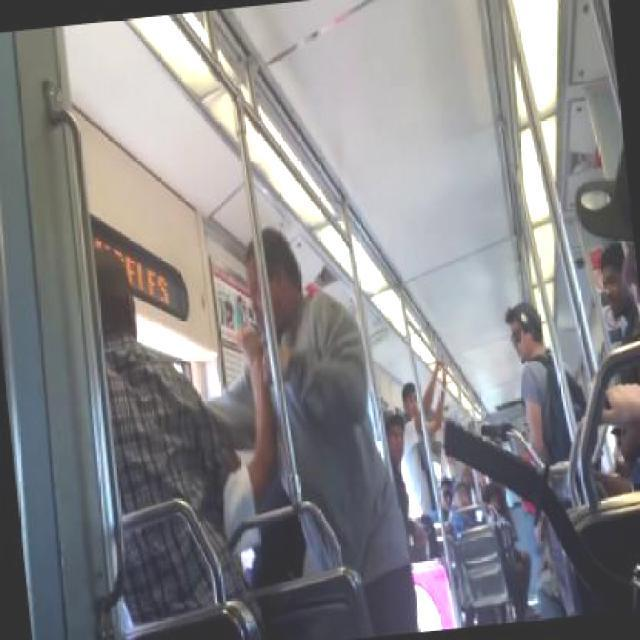fight: (98, 223, 400, 608)
non-fight: (498, 293, 590, 459)
